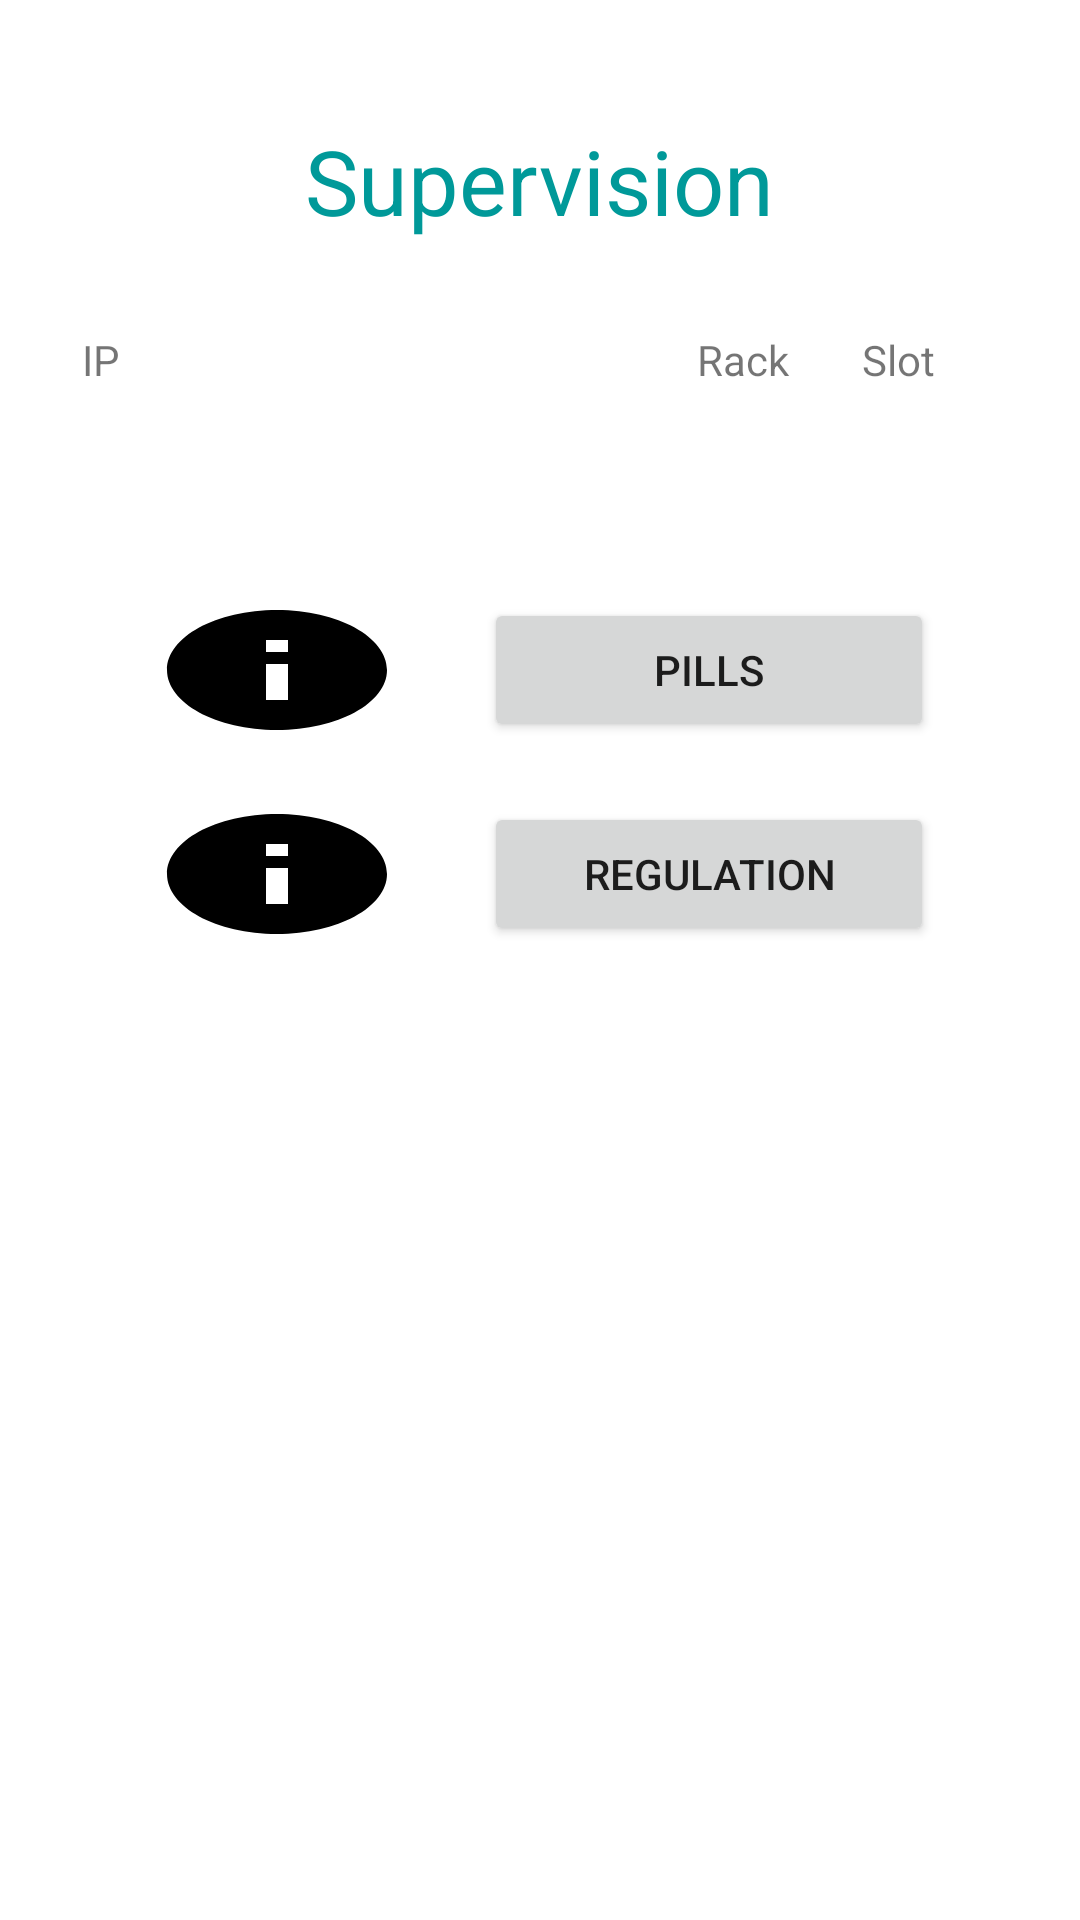

Locate icon controls on the screen. Image size 1080*1920, boxes as (x1, y1, x2, y2).
info: (167, 610, 387, 730), (167, 814, 387, 934)
